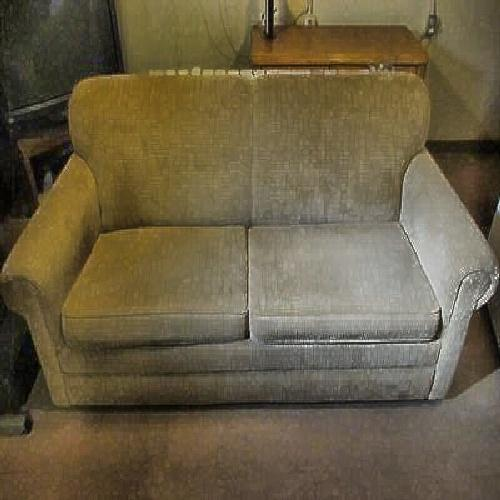sofa: (42, 76, 468, 406)
